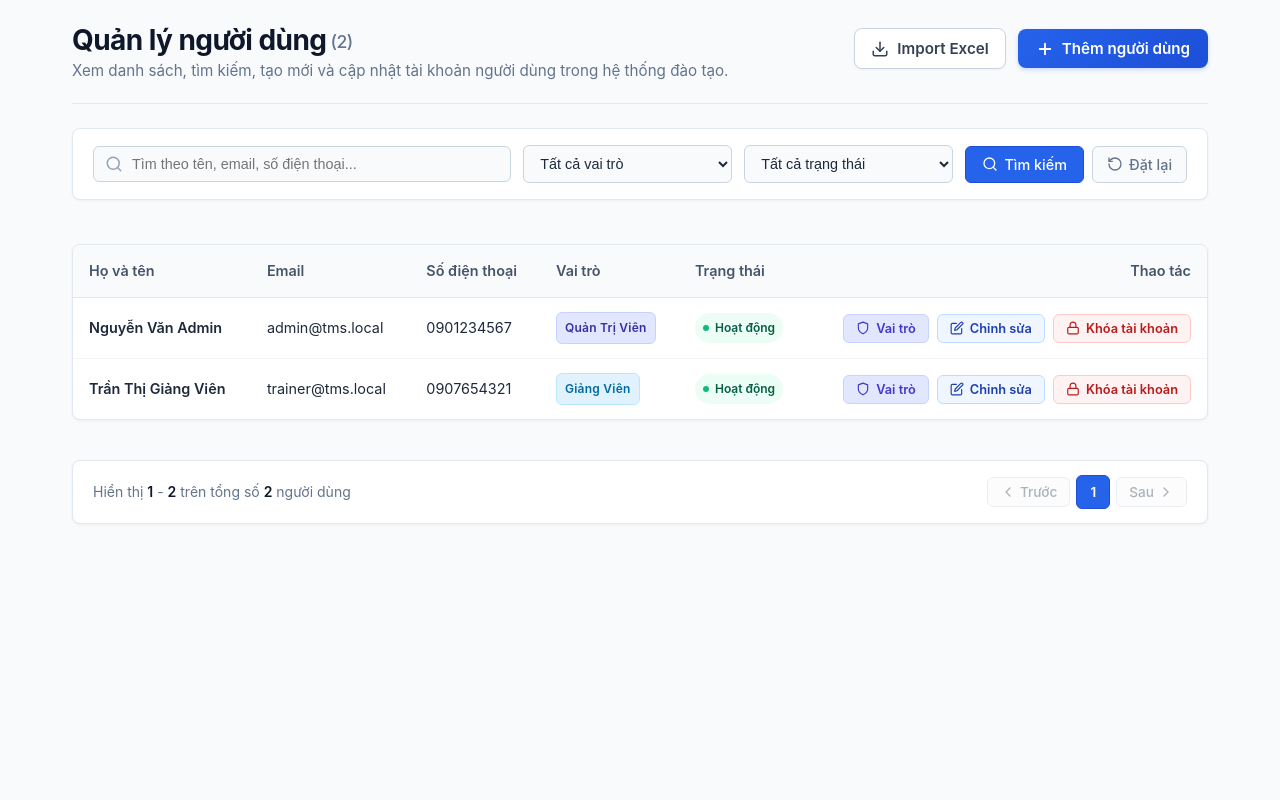
Test: SCRUM-94: User Management State & Integration › 5. mở modal chỉnh sửa từ bảng, cập nhật thành công và hiển thị thông tin mới
The image size is (1280, 800).
Bấm nút chỉnh sửa trên hàng user 1
Click the button with test id "btn-edit-user-1" at (991, 328), box [937,314,1045,343]
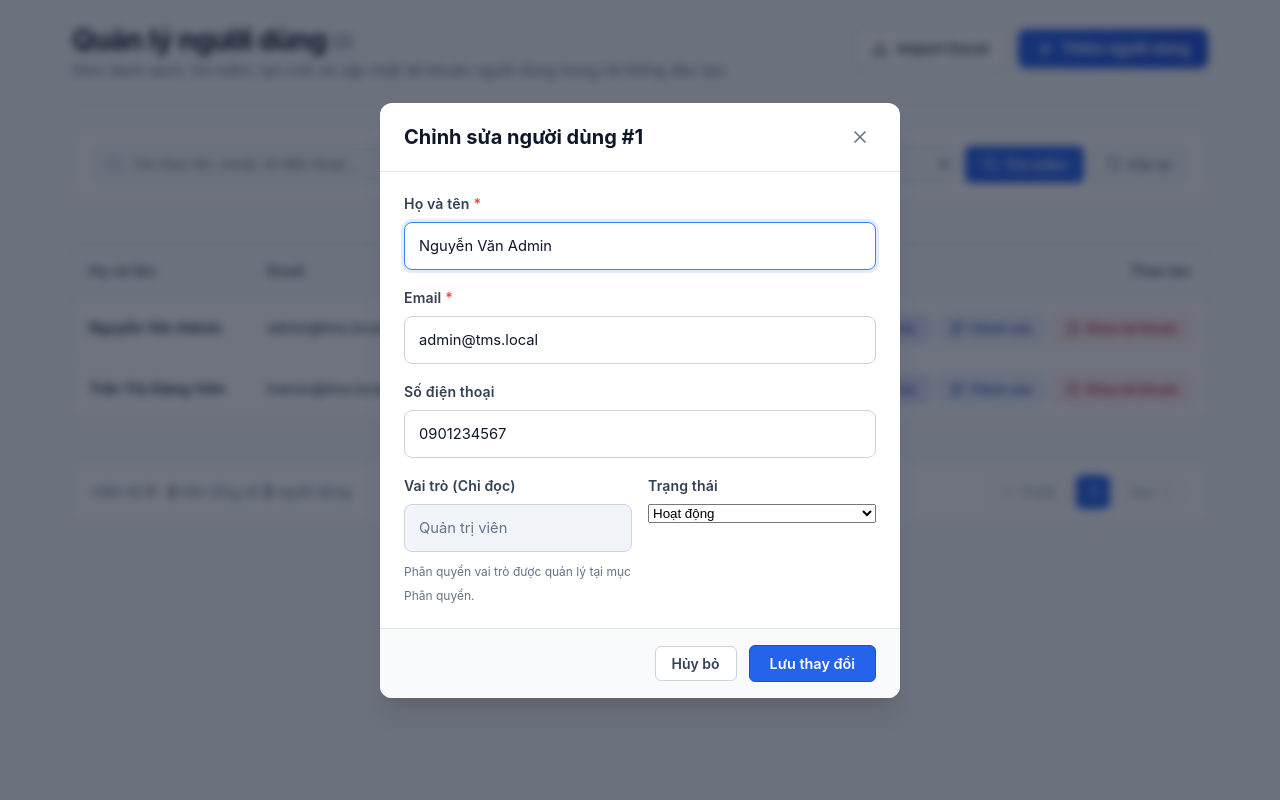
Now the dialog with test id "edit-user-modal" is shown, box [380,102,900,698]
 Sửa tên
Replace the text in the field with test id "input-edit-name" with "Nguyễn Văn Admin Cập Nhật" at (640, 246), box [404,222,876,270]
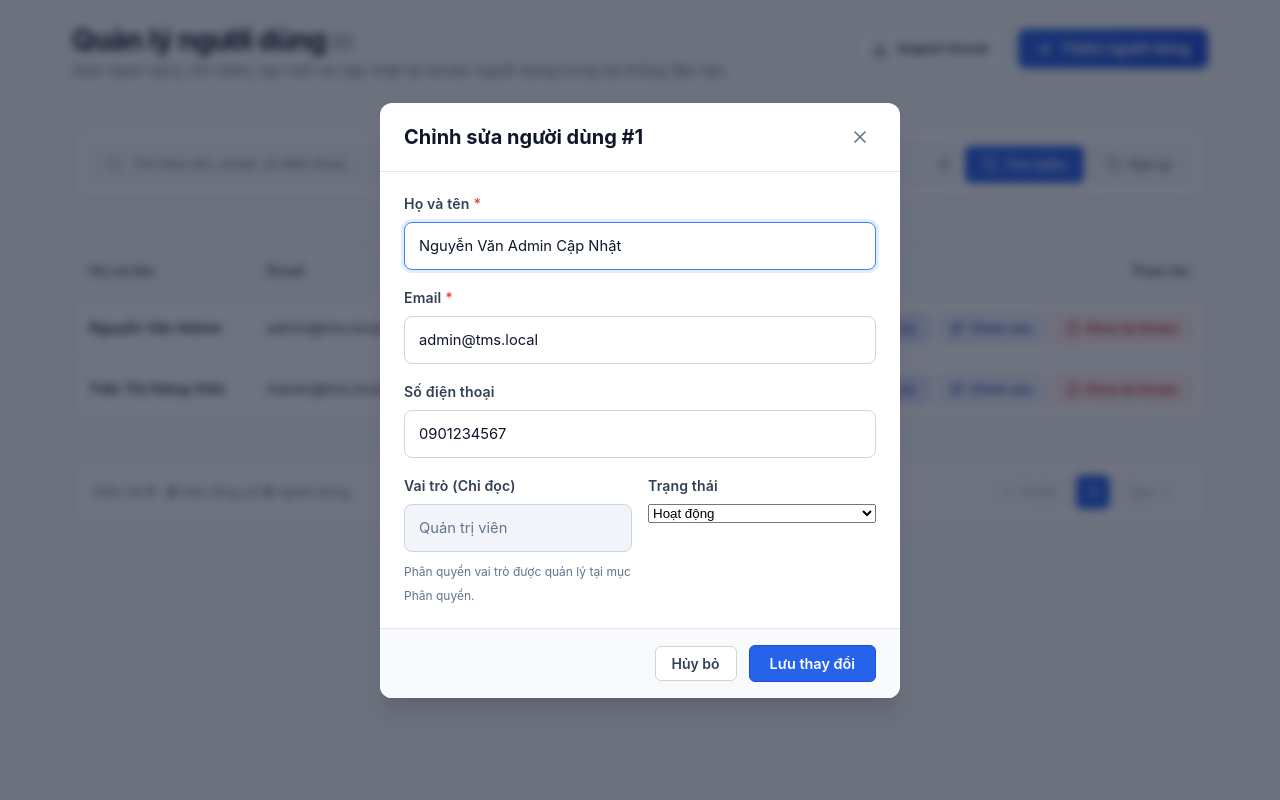
Submit form chỉnh sửa
Click the button with test id "btn-submit-edit" at (812, 663), box [749,644,876,682]
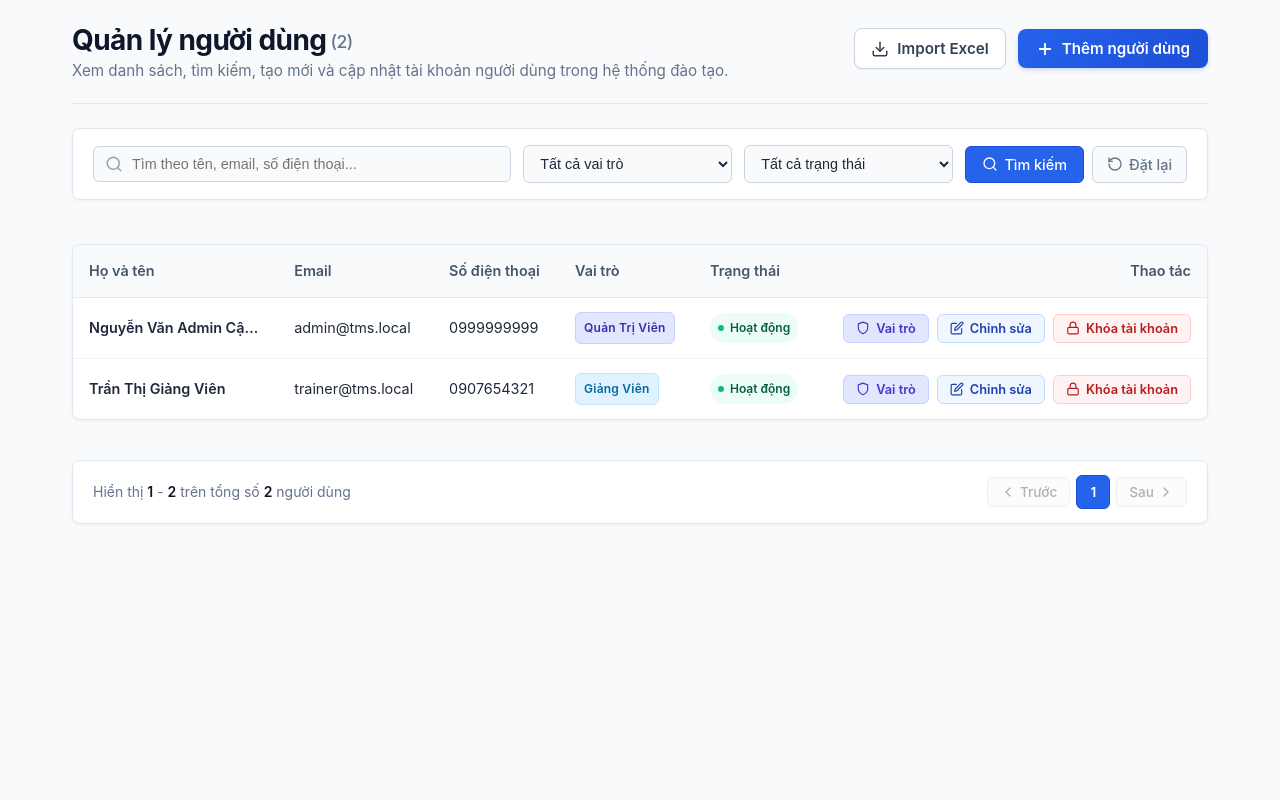
Now the dialog with test id "edit-user-modal" is gone
Now the text "Nguyễn Văn Admin Cập Nhật" is shown, box [73,298,278,359]
